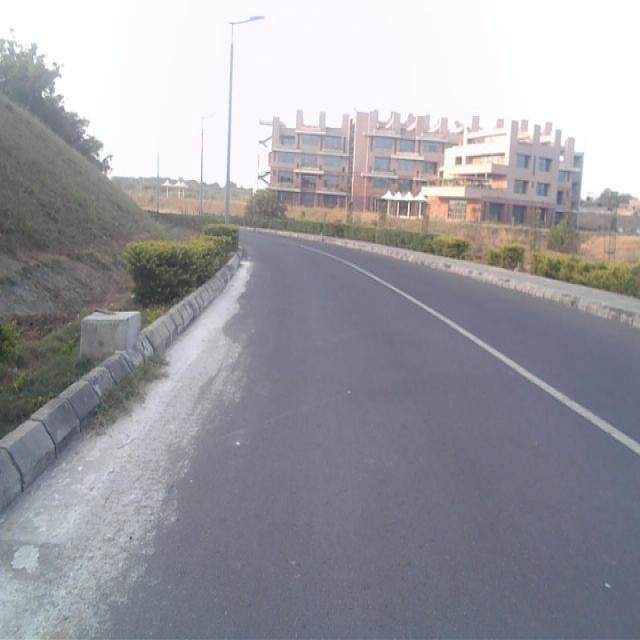lane: (0, 233, 640, 640)
